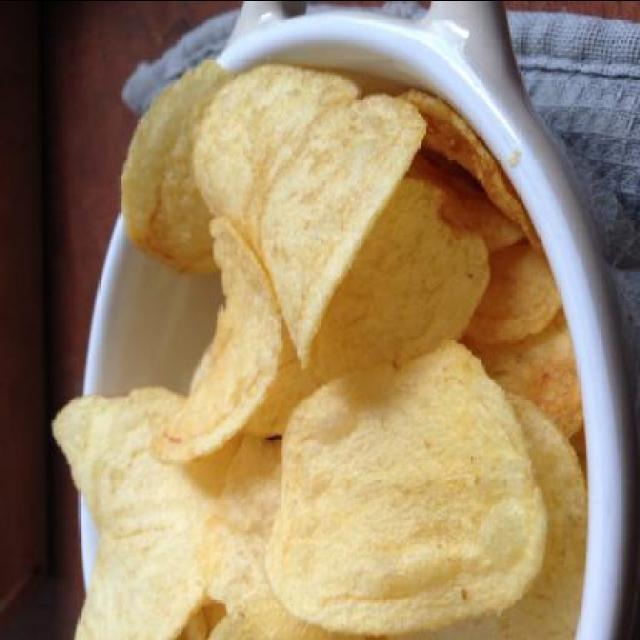Chips packaged: (73, 59, 556, 630)
